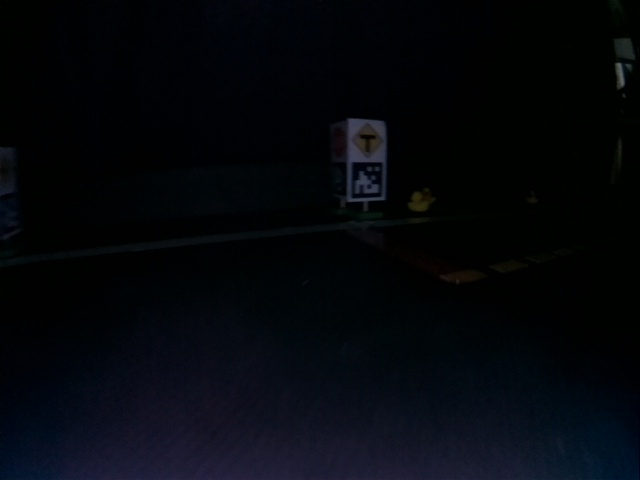Duckie: (408, 192, 427, 211)
Intersection sign: (350, 122, 385, 159)
QR code: (351, 163, 384, 197)
Stop sign: (330, 126, 347, 159)
